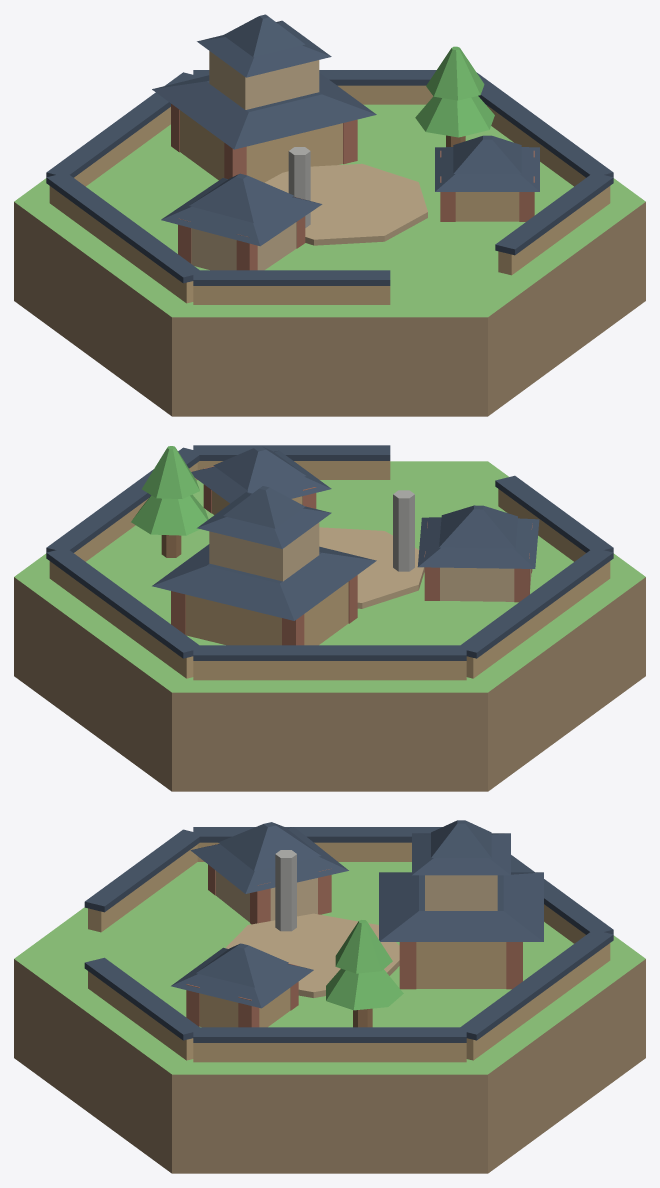
The model's file is village-2.glb.
3 views of the same model, one above another, from view 1: azimuth 30°, elevation 25°; view 2: azimuth 150°, elevation 25°; view 3: azimuth 270°, elevation 25° (orthographic).
Visible parts, largest first — view 1: base, yard, main_eave1, main_body1, fence_3_wall, main_body2, fence_2_cap, small_a_eave, fence_3_cap, fence_5_cap, fence_1_cap, small_b_eave (+19 smaller); view 2: base, main_eave1, main_body1, fence_1_wall, fence_1_cap, yard, small_a_eave, main_body2, fence_0_cap, fence_2_cap, small_a_roof, main_eave2 (+19 smaller); view 3: base, main_eave1, yard, fence_5_wall, fence_5_cap, main_body1, fence_0_cap, small_a_eave, small_b_eave, main_eave2, fence_3_cap, fence_0_wall (+21 smaller).
Part boxes in pixels (x1,y1,x2,y2): base: (14, 104, 645, 416); yard: (265, 163, 427, 245); main_eave1: (152, 73, 376, 149); main_body1: (180, 110, 342, 182); fence_3_wall: (193, 286, 390, 304); main_body2: (209, 51, 319, 109); fence_2_cap: (46, 175, 201, 283); small_a_eave: (161, 178, 322, 246); fence_3_cap: (193, 270, 390, 285); fence_5_cap: (476, 72, 613, 177); fence_1_cap: (46, 72, 195, 177); small_b_eave: (435, 147, 539, 191); base: (14, 461, 645, 791); main_eave1: (152, 544, 376, 620); main_body1: (185, 581, 348, 645); fence_1_wall: (193, 661, 466, 680); fence_1_cap: (193, 645, 466, 660); yard: (319, 527, 424, 608); small_a_eave: (417, 517, 539, 568); main_body2: (209, 522, 319, 581); fence_0_cap: (46, 550, 202, 658); fence_2_cap: (459, 550, 613, 658); small_a_roof: (439, 505, 517, 548); main_eave2: (197, 492, 331, 548); base: (14, 862, 645, 1173); main_eave1: (379, 872, 543, 941); yard: (225, 913, 399, 997); fence_5_wall: (193, 1043, 466, 1062); fence_5_cap: (193, 1027, 466, 1042); main_body1: (416, 942, 506, 988); fence_0_cap: (457, 929, 613, 1040); small_a_eave: (190, 827, 348, 893); small_b_eave: (171, 947, 313, 1008); main_eave2: (412, 833, 510, 875); fence_3_cap: (84, 829, 202, 912); fence_0_wall: (466, 943, 610, 1060).
Bounding box in the file's own units: 1 × 0.4761 × 1.15.
